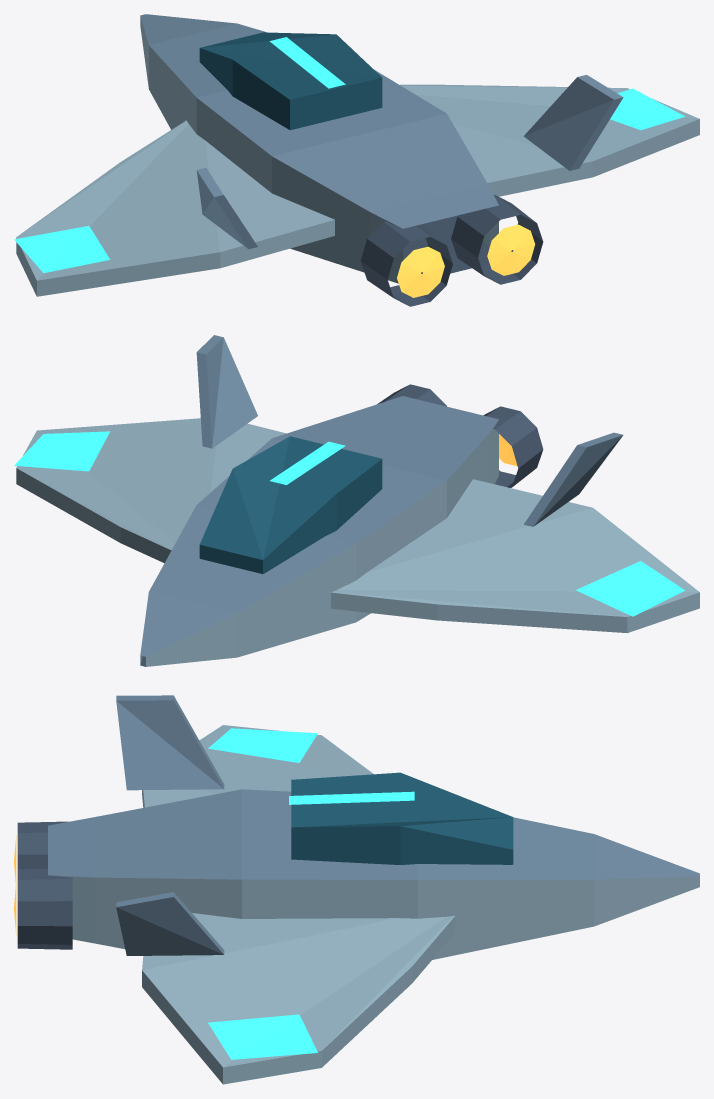
The model's file is nebula3-CJhz9XBd.glb.
3 views of the same model, one above another, from view 1: azimuth 30°, elevation 25°; view 2: azimuth 150°, elevation 25°; view 3: azimuth 270°, elevation 25° (orthographic). The views are drawn at different scales.
Visible parts, largest first — view 1: Interceptor Mk II; view 2: Interceptor Mk II; view 3: Interceptor Mk II.
Boxes of the visible parts, x1,y1,x2,y2 form: Interceptor Mk II: (14,14,699,306); Interceptor Mk II: (14,335,699,666); Interceptor Mk II: (14,695,699,1084).
Bounding box in the file's own units: 6.9 × 1.22 × 5.84.
